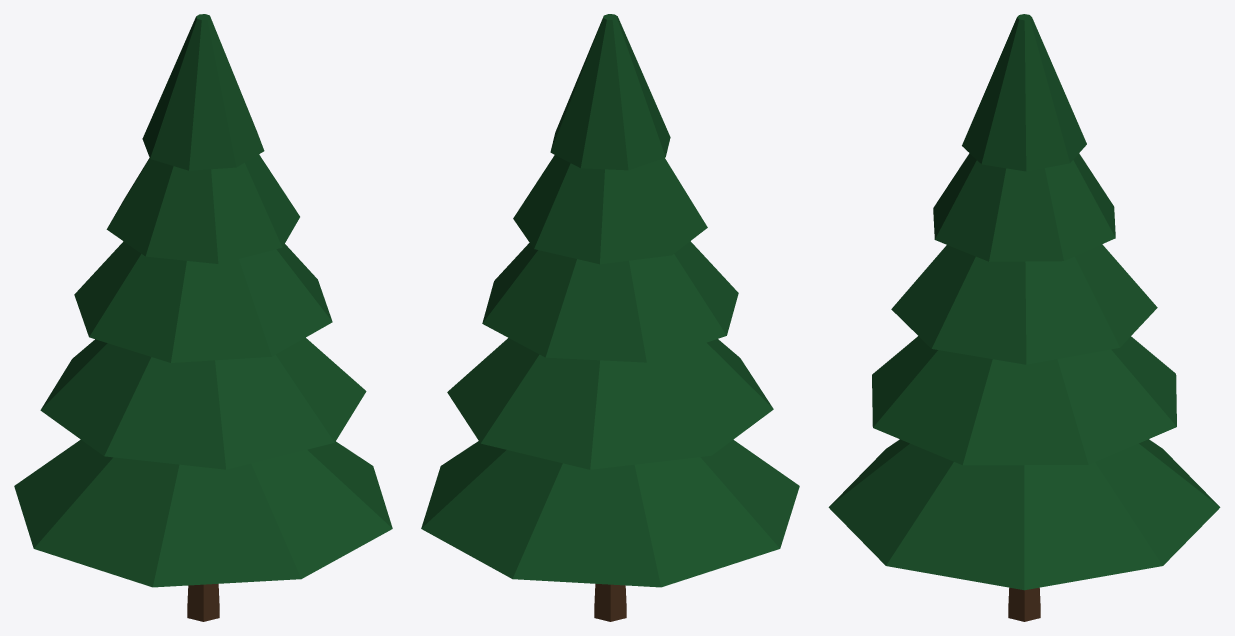
The model's file is tree_pine.glb.
3 renders of one model, left to right at view 1: azimuth 30°, elevation 25°; view 2: azimuth 150°, elevation 25°; view 3: azimuth 270°, elevation 25°, orthographic.
Visible parts, largest first — view 1: tree_pine_mesh; view 2: tree_pine_mesh; view 3: tree_pine_mesh.
Boxes of the visible parts, x1,y1,x2,y2 form: tree_pine_mesh: (14, 14, 392, 621); tree_pine_mesh: (421, 14, 799, 621); tree_pine_mesh: (828, 14, 1220, 621).
Size of the model in its own units: 5 by 8.4 by 5.
